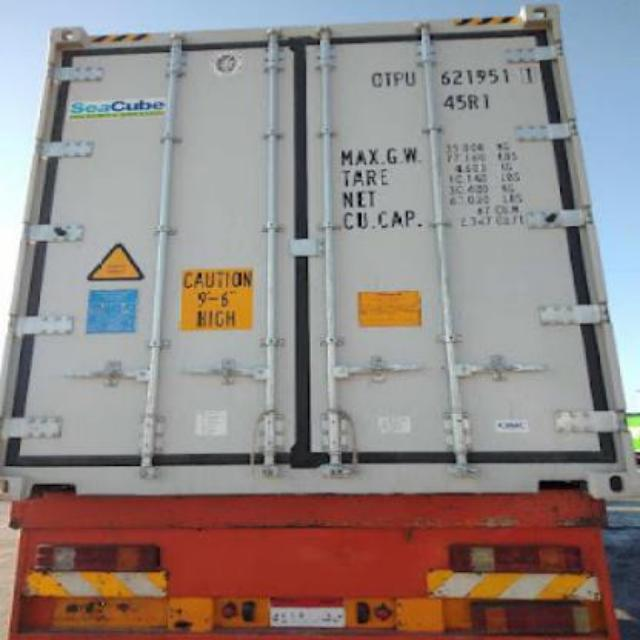1: (496, 56, 512, 92), (520, 62, 536, 84), (464, 61, 476, 85)
2: (451, 63, 464, 87)
5: (484, 60, 498, 88)
6: (436, 61, 449, 87)
9: (472, 61, 486, 91)
O: (368, 67, 382, 91)
P: (391, 61, 404, 97)
T: (381, 64, 394, 92)
U: (402, 65, 418, 97)
